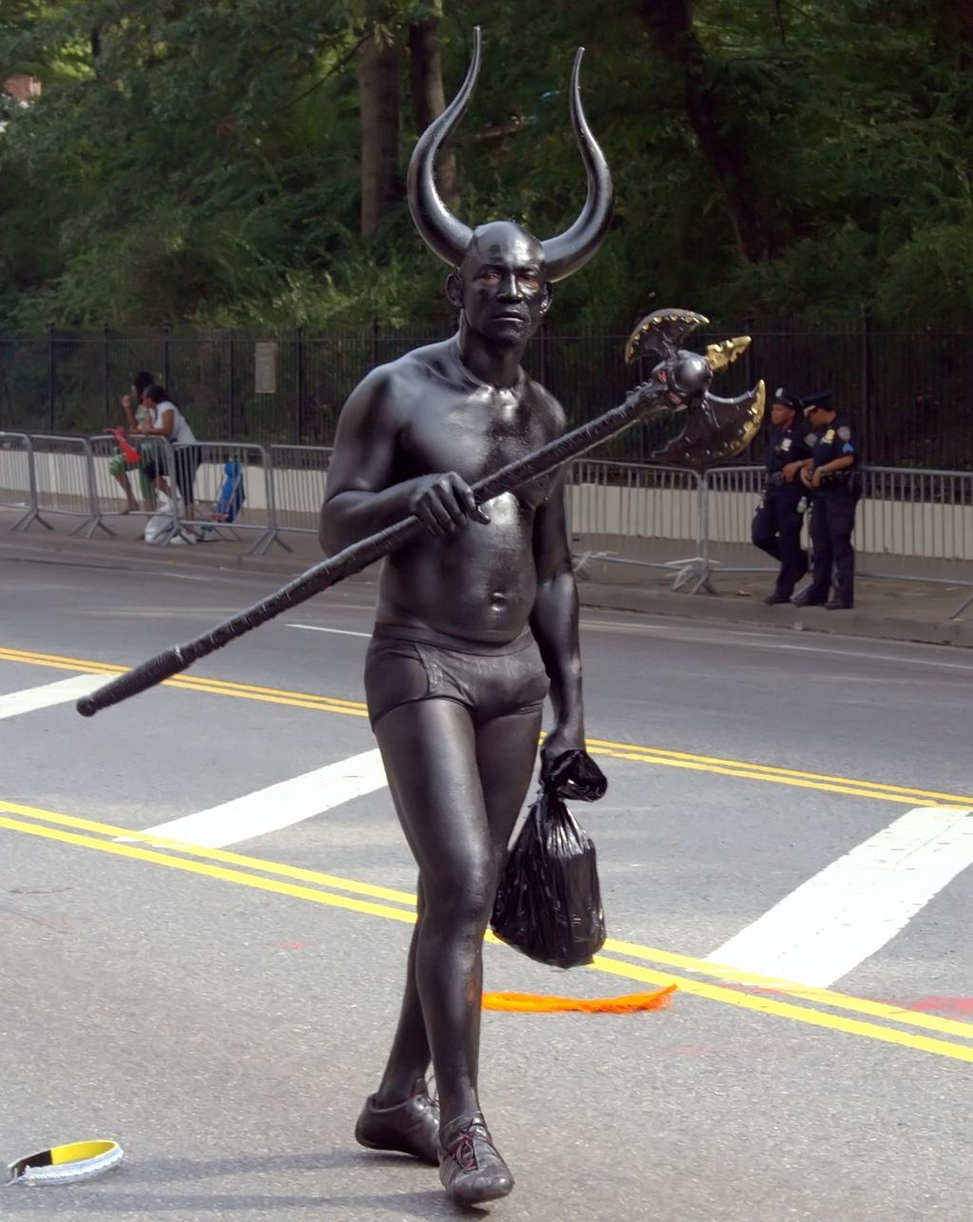human_face: (469, 239, 540, 343)
